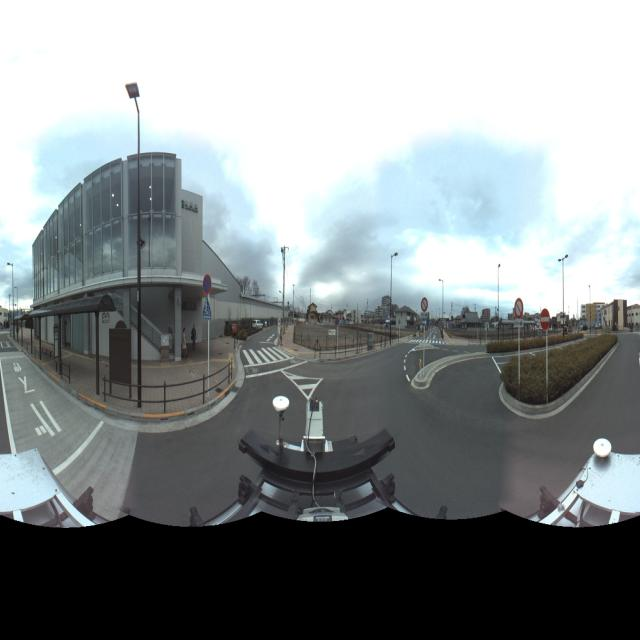b_1: (26, 146, 208, 386), (374, 284, 398, 334), (396, 299, 421, 340), (456, 300, 479, 341), (602, 299, 627, 332), (580, 296, 606, 326), (306, 298, 323, 332), (625, 298, 640, 334), (482, 303, 494, 332)
